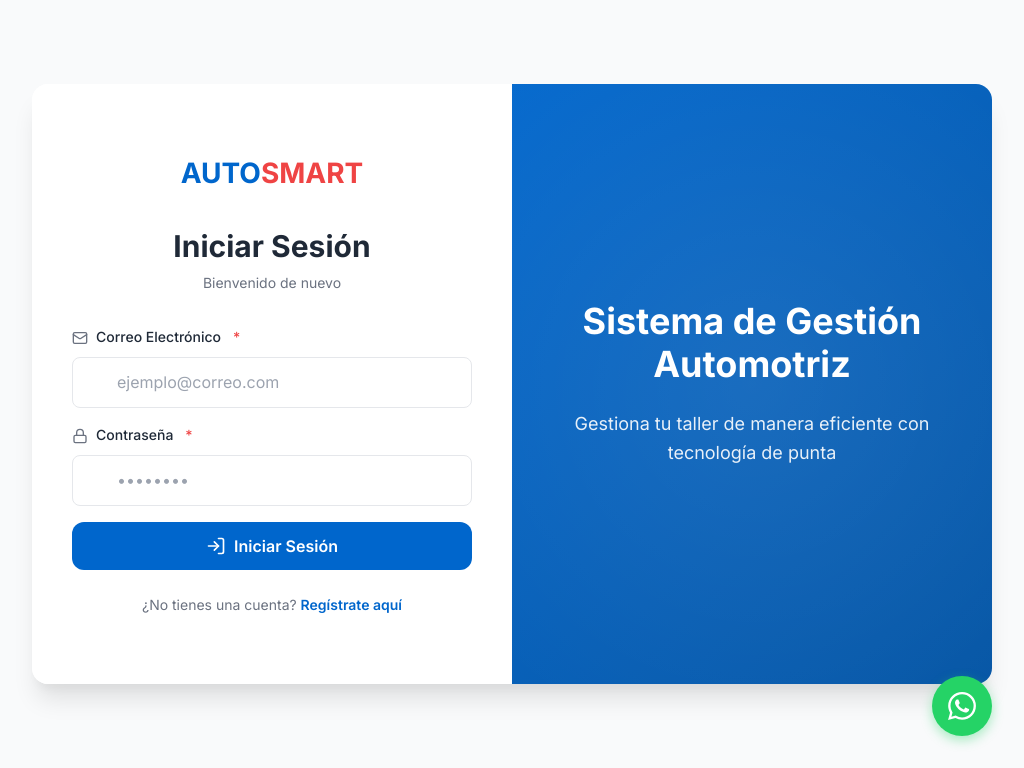
Test: Login › muestra error cuando el formato de email no es válido
Type "correo-sin-arroba" into the field with placeholder "ejemplo@correo.com" at (272, 383), box [72, 357, 472, 408]
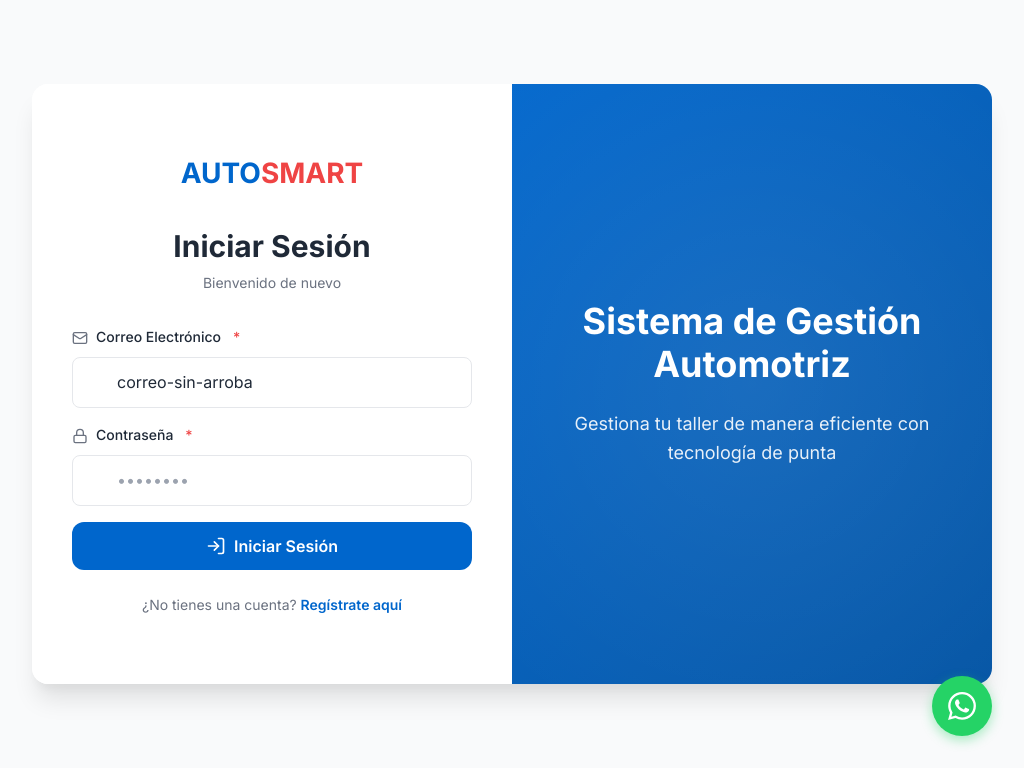
Submit the form, box [72, 326, 472, 570]
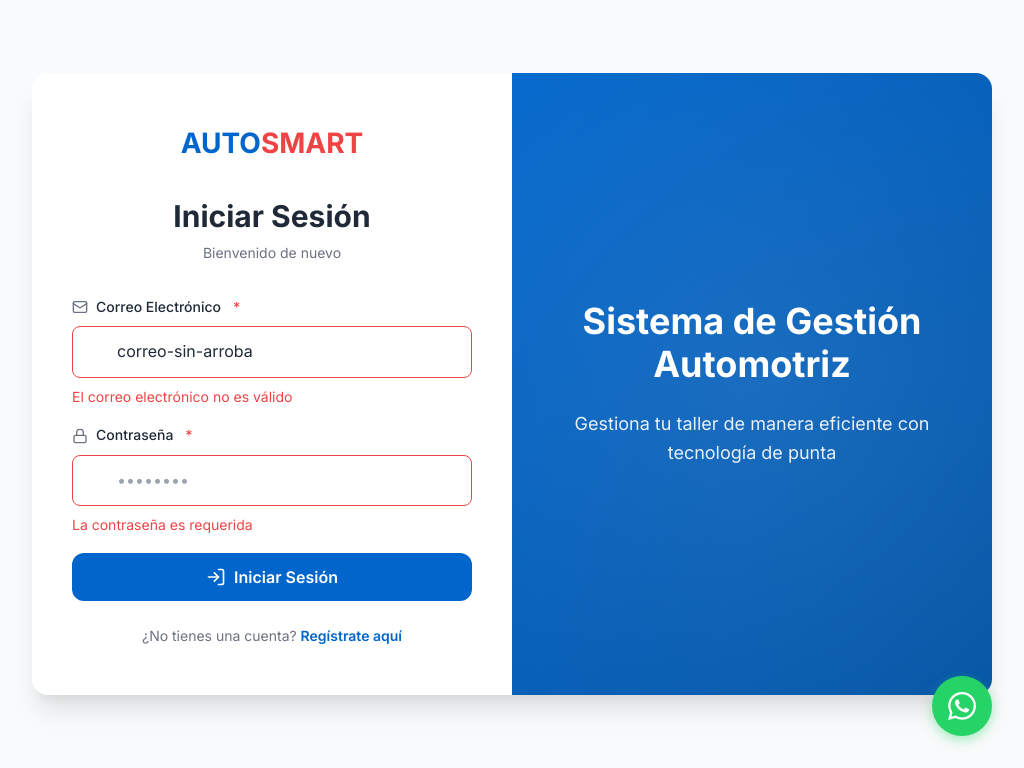
Check: the text "El correo electrónico no es válido" is shown, box [72, 388, 292, 405]
